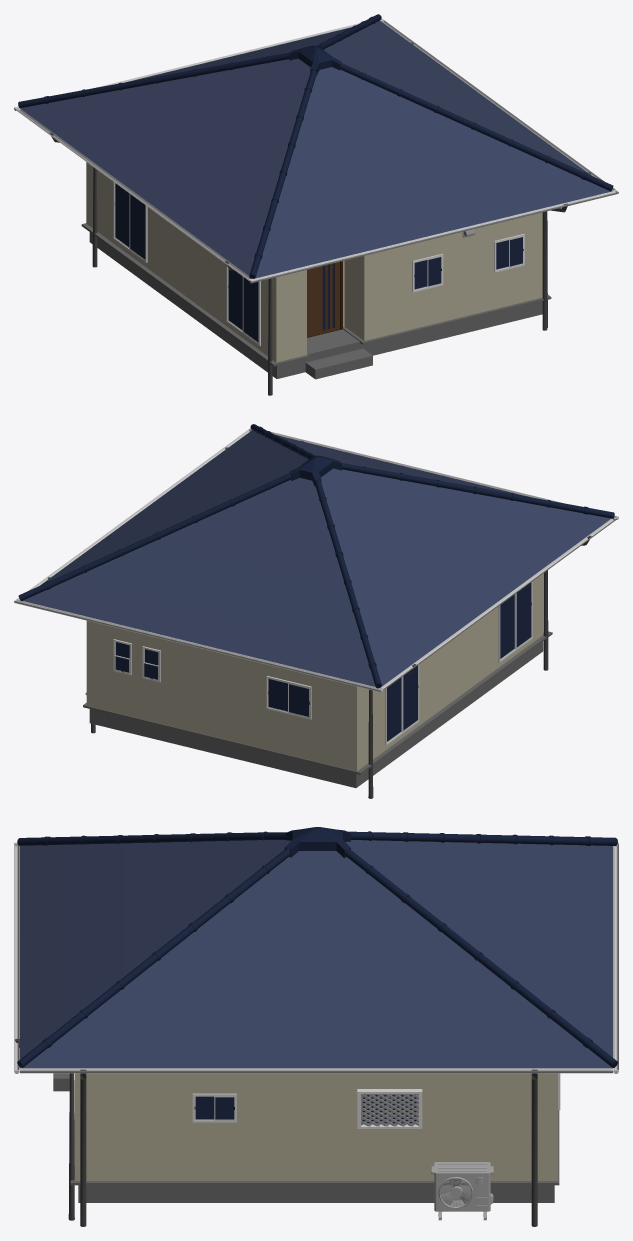
File: house012.fbx
The picture shows the model from 3 angles, top to bottom: view 1: azimuth 30°, elevation 25°; view 2: azimuth 150°, elevation 25°; view 3: azimuth 270°, elevation 25°; orthographic projection. The views are drawn at different scales.
Visible parts, largest first — view 1: house012; view 2: house012; view 3: house012.
Boxes of the visible parts, x1,y1,x2,y2 form: house012: [14, 14, 618, 395]; house012: [14, 424, 618, 798]; house012: [14, 827, 618, 1226].
Bounding box in the file's own units: 7.7 × 4.92 × 8.63.
